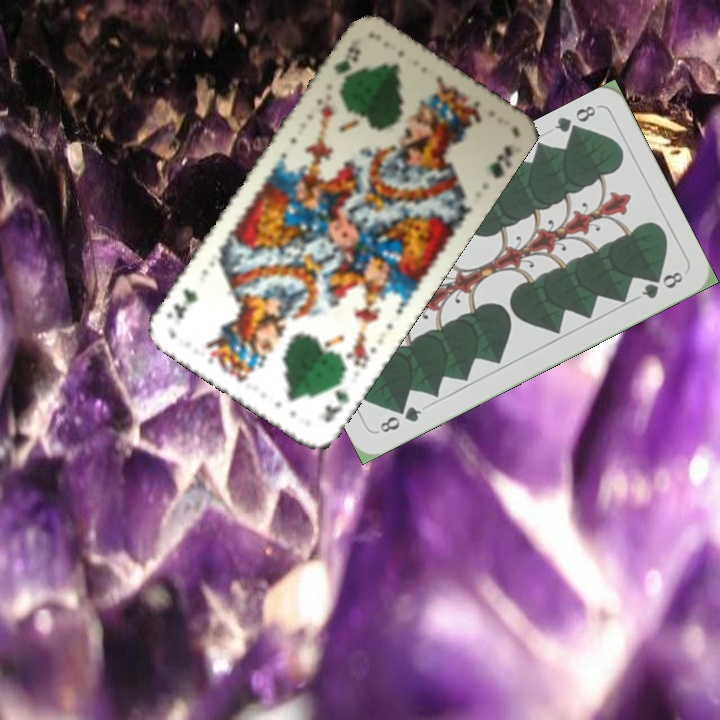G8: (550, 101, 599, 141), (375, 402, 425, 436)
GK: (319, 370, 352, 426), (329, 34, 363, 77)
